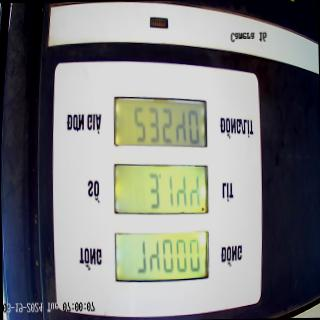screen: (110, 92, 212, 285)
